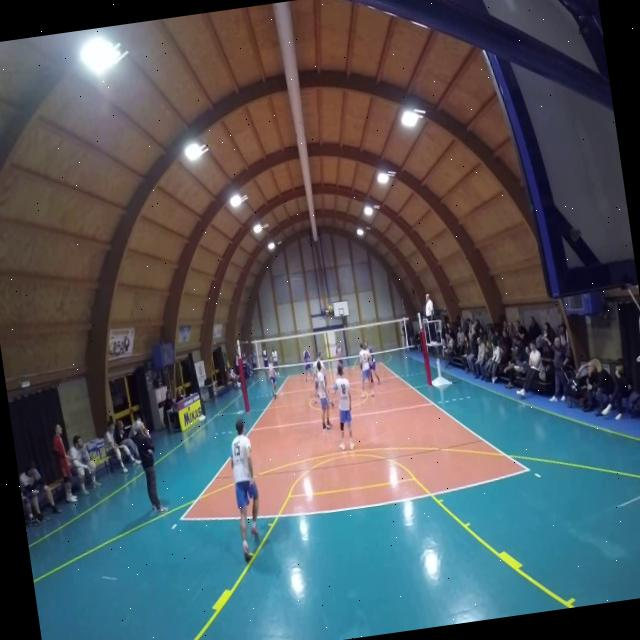Volleyball: (327, 305, 335, 316)
